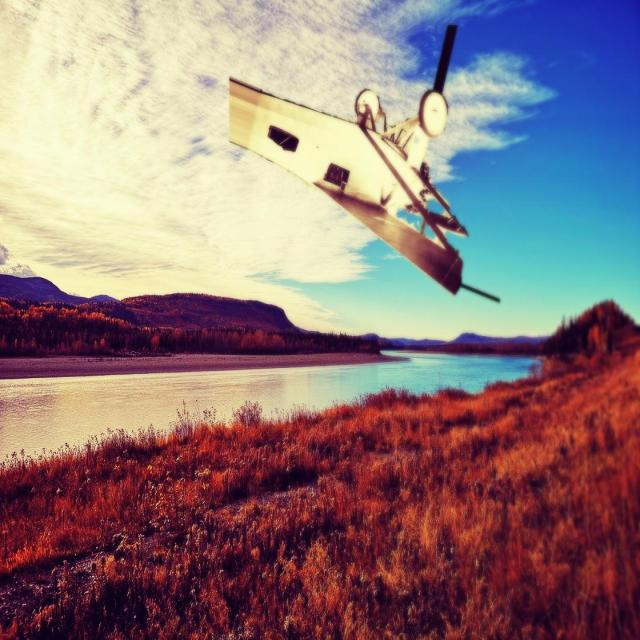airplane: (228, 22, 500, 304)
